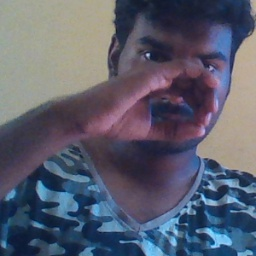O: (73, 48, 222, 152)
